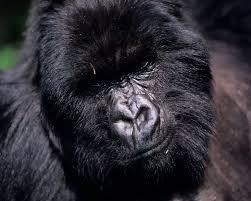goriile_montagne: (0, 0, 242, 201)
